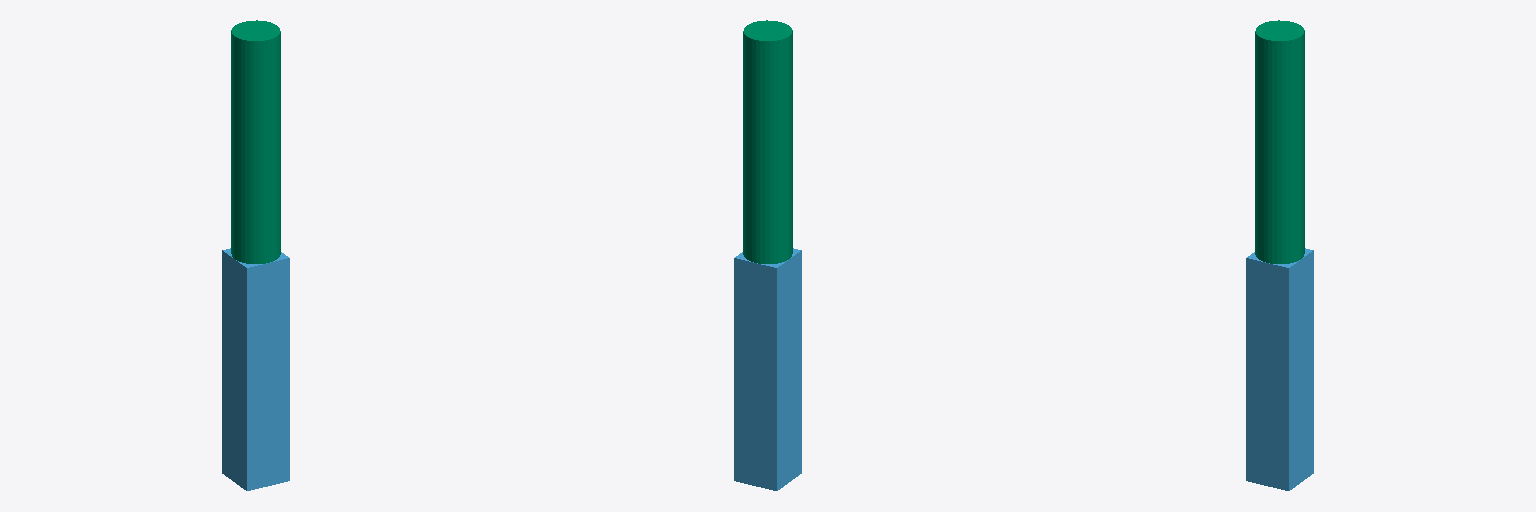
robot.urdf — one_DOF_robot:
<?xml version="1.0"?>
<robot  name="one_DOF_robot">

<!-- Used for fixing robot to Gazebo 'base_link' -->
  <link name="world"/>

  <joint name="glue_robot_to_world" type="fixed">
    <parent link="world"/>
    <child link="link1"/>
  </joint>

 <!-- Base Link -->
  <link name="link1">
    <collision>
      <origin xyz="0 0 0.5" rpy="0 0 0"/>
      <geometry>
       <box size="0.2 0.2 0.7"/>
      </geometry>
    </collision>

    <visual>
      <origin xyz="0 0 0.5" rpy="0 0 0"/>
      <geometry>
        <box size="0.2 0.2 1"/>
      </geometry>
      <material>Gazebo/Blue</material>
    </visual>

    <inertial>
      <origin xyz="0 0 0.5" rpy="0 0 0"/>
      <mass value="1"/>
      <inertia
        ixx="1.0" ixy="0.0" ixz="0.0"
        iyy="1.0" iyz="0.0"
        izz="1.0"/>
    </inertial>
  </link>

<!-- Moveable Link -->
  <link name="link2">
    <collision>
      <origin xyz="0 0 0.5" rpy="0 0 0"/>
      <geometry>
        <cylinder length="1" radius="0.1"/>
        <!--box size="0.15 0.15 0.8"-->
      </geometry>
    </collision>

    <visual>
      <origin xyz="0 0 0.5" rpy="0 0 0"/>
      <geometry>
        <cylinder length="1" radius="0.1"/>
      </geometry>
    </visual>

    <inertial>
      <origin xyz="0 0 0.5" rpy="0 0 0"/>
      <mass value="1"/>
      <inertia
        ixx="0.1" ixy="0.0" ixz="0.0"
        iyy="0.1" iyz="0.0"
        izz="0.005"/>
    </inertial>
  </link>

  <joint name="joint1" type="continuous">
    <parent link="link1"/>
    <child link="link2"/>
    <origin xyz="0 0 1" rpy="0 0 0"/>
    <axis xyz="0 1 0"/>
  </joint>
</robot>

--- Facts derived from the render (not from the file) ---
Views: 3 orthographic renders of the robot side by side, from view 1: azimuth 30°, elevation 25°; view 2: azimuth 150°, elevation 25°; view 3: azimuth 330°, elevation 25°.
Robot: one_DOF_robot — 3 links, 2 joints (1 continuous, 1 fixed); root link world; default pose: all joints at 0.
Links seen in each view (by area): view 1: link1, link2; view 2: link1, link2; view 3: link1, link2.
Boxes of the visible links, x1=… form: link1: x1=222, y1=248, x2=289, y2=490; link2: x1=231, y1=20, x2=280, y2=263; link1: x1=734, y1=248, x2=801, y2=490; link2: x1=743, y1=20, x2=792, y2=263; link1: x1=1246, y1=248, x2=1313, y2=490; link2: x1=1255, y1=20, x2=1304, y2=263.
Size in the robot's own frame: 0.2 by 0.2 by 2 metres.
Geometry: primitives only (box / cylinder / sphere), no mesh files.
